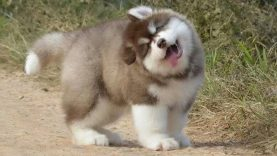dog: (22, 3, 223, 148)
